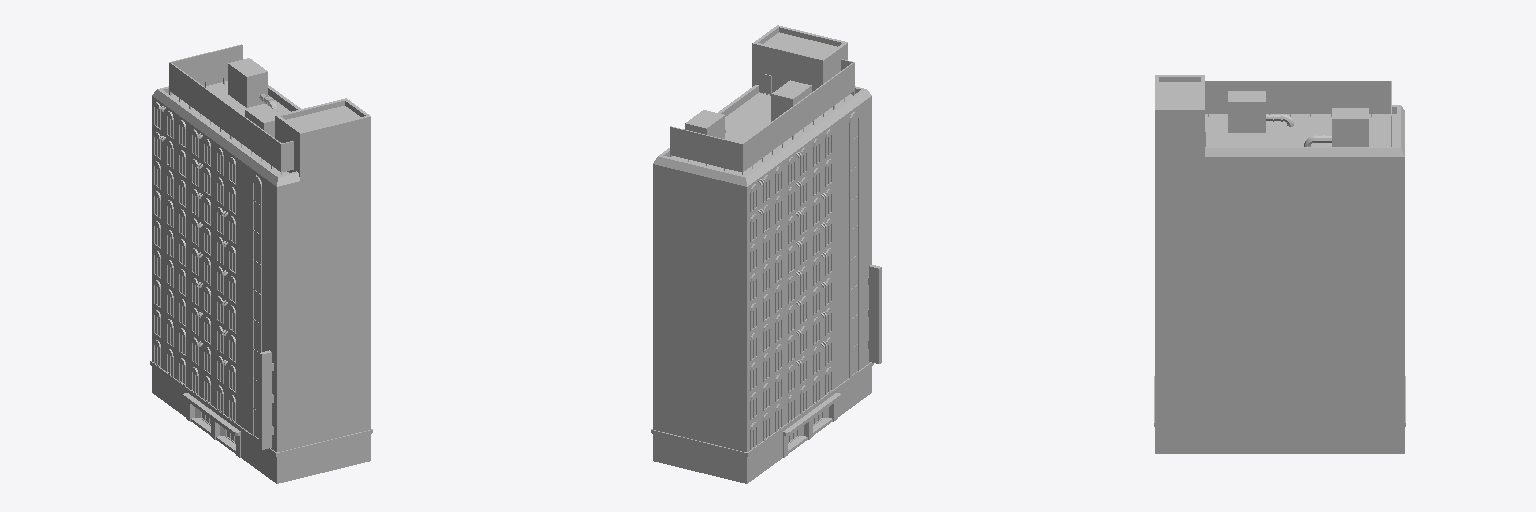
Rendered from TallWide.obj.
3 views of the same model, side by side, from view 1: azimuth 30°, elevation 25°; view 2: azimuth 150°, elevation 25°; view 3: azimuth 270°, elevation 25° (orthographic).
Parts seen in each view (by area): view 1: Box001, Box010, Cylinder001, Cylinder049, Box088, Cylinder052; view 2: Box001, Box010, Cylinder001, Box088, Cylinder052, Cylinder049; view 3: Box001, Box010, Cylinder052, Cylinder049.
Boxes of the visible parts, x1,y1,x2,y2 form: Box001: [150, 77, 372, 483]; Box010: [169, 44, 293, 174]; Cylinder001: [252, 175, 261, 439]; Cylinder049: [228, 58, 277, 111]; Box088: [259, 350, 273, 449]; Cylinder052: [245, 104, 279, 137]; Box001: [651, 25, 873, 483]; Box010: [670, 59, 854, 174]; Cylinder001: [849, 112, 858, 377]; Box088: [868, 265, 881, 363]; Cylinder052: [771, 80, 811, 121]; Cylinder049: [685, 110, 725, 138]; Box001: [1154, 75, 1405, 453]; Box010: [1205, 81, 1391, 146]; Cylinder052: [1228, 91, 1293, 132]; Cylinder049: [1304, 108, 1368, 146].
Size of the model in its own units: 3.15 by 9.59 by 6.36.